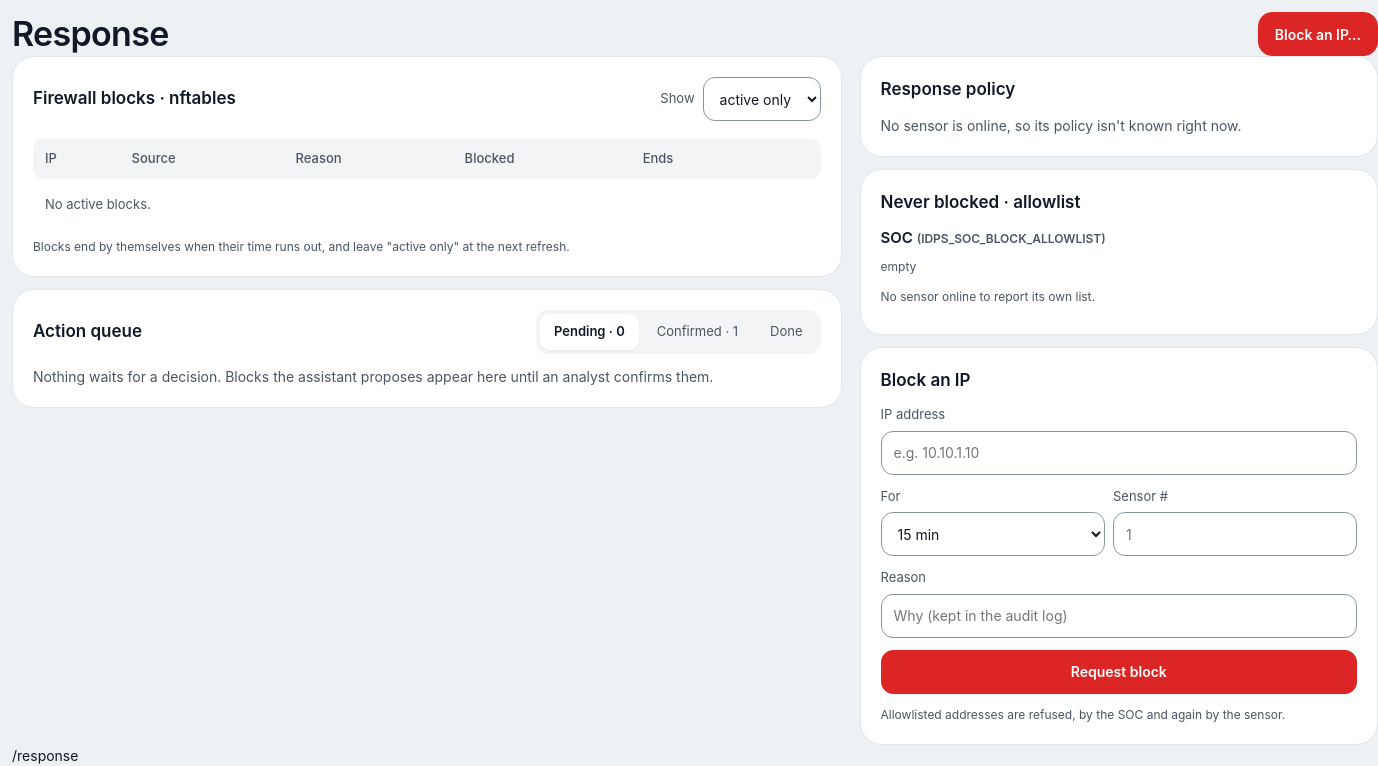
Test: action queue › confirmed tab lists the confirmed fetch with reason
Click the button "Confirmed · 1": (697, 332) [643,314,752,350]
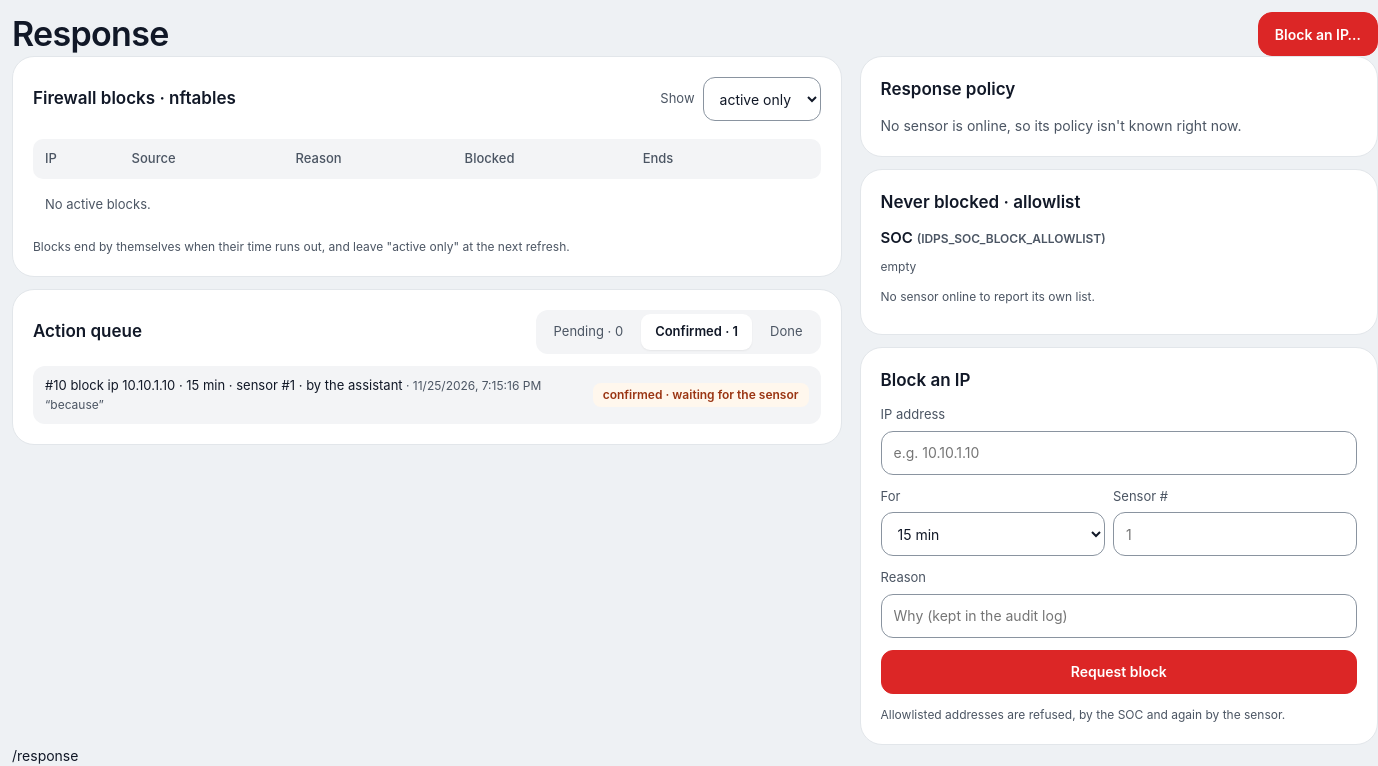
Expected: the text "#10 " is shown, [45,376,541,414]
Expected: the text "confirmed · waiting for the sensor" is shown, [593,383,809,407]
Expected: the text "“because”" is shown, [45,396,104,412]
